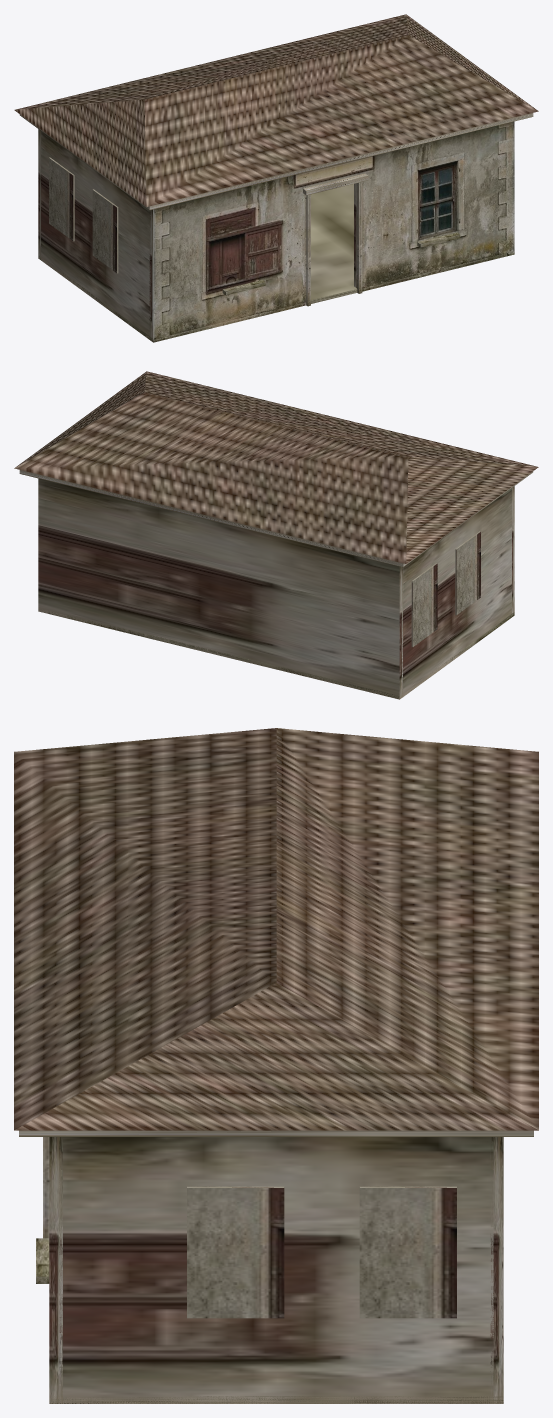
File: istasyon.glb
3 renders of one model, top to bottom at view 1: azimuth 30°, elevation 25°; view 2: azimuth 150°, elevation 25°; view 3: azimuth 270°, elevation 25°, orthographic. The views are drawn at different scales.
Parts seen in each view (by area): view 1: istasyon; view 2: istasyon; view 3: istasyon.
Boxes of the visible parts, x1=… form: istasyon: x1=14, y1=14, x2=538, y2=342; istasyon: x1=14, y1=371, x2=538, y2=699; istasyon: x1=14, y1=728, x2=538, y2=1403.
Size of the model in its own units: 9.66 by 4.45 by 5.66.
1 material, 1 textured.
